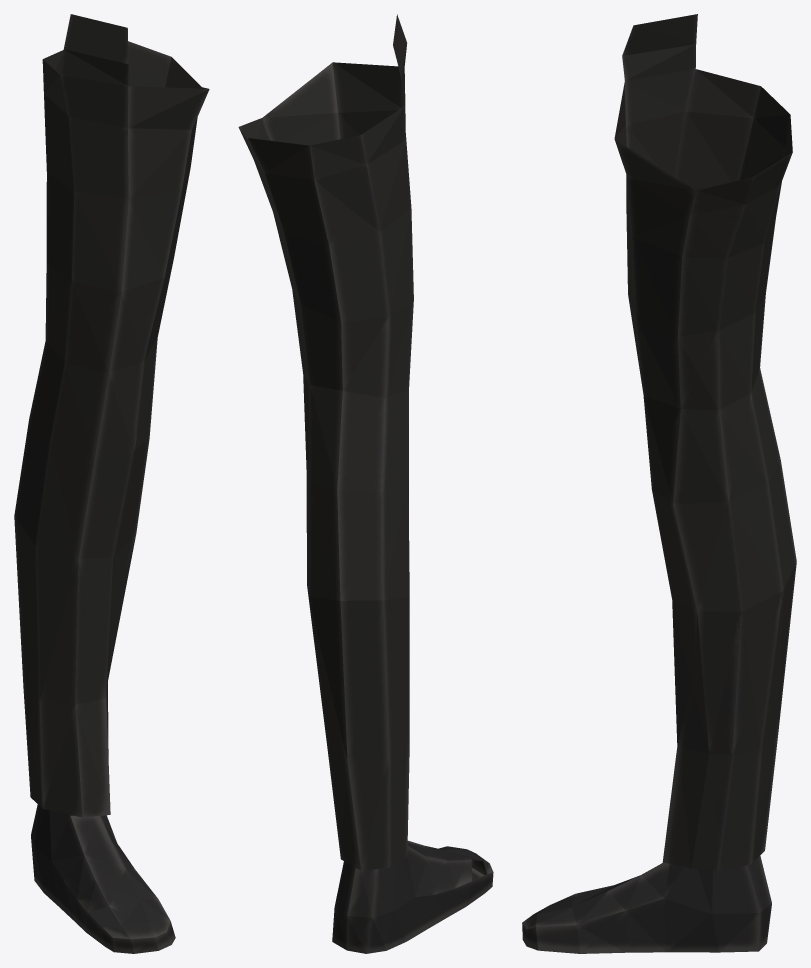
The model's file is piernaDer.fbx.
The picture shows the model from 3 angles, left to right: view 1: azimuth 30°, elevation 25°; view 2: azimuth 150°, elevation 25°; view 3: azimuth 270°, elevation 25°; orthographic projection. The views are drawn at different scales.
Parts seen in each view (by area): view 1: Human 2.004; view 2: Human 2.004; view 3: Human 2.004.
Boxes of the visible parts, x1,y1,x2,y2 form: Human 2.004: (14, 14, 209, 953); Human 2.004: (238, 14, 493, 953); Human 2.004: (522, 14, 796, 953).
Bounding box in the file's own units: 17.14 × 89.51 × 24.01.
